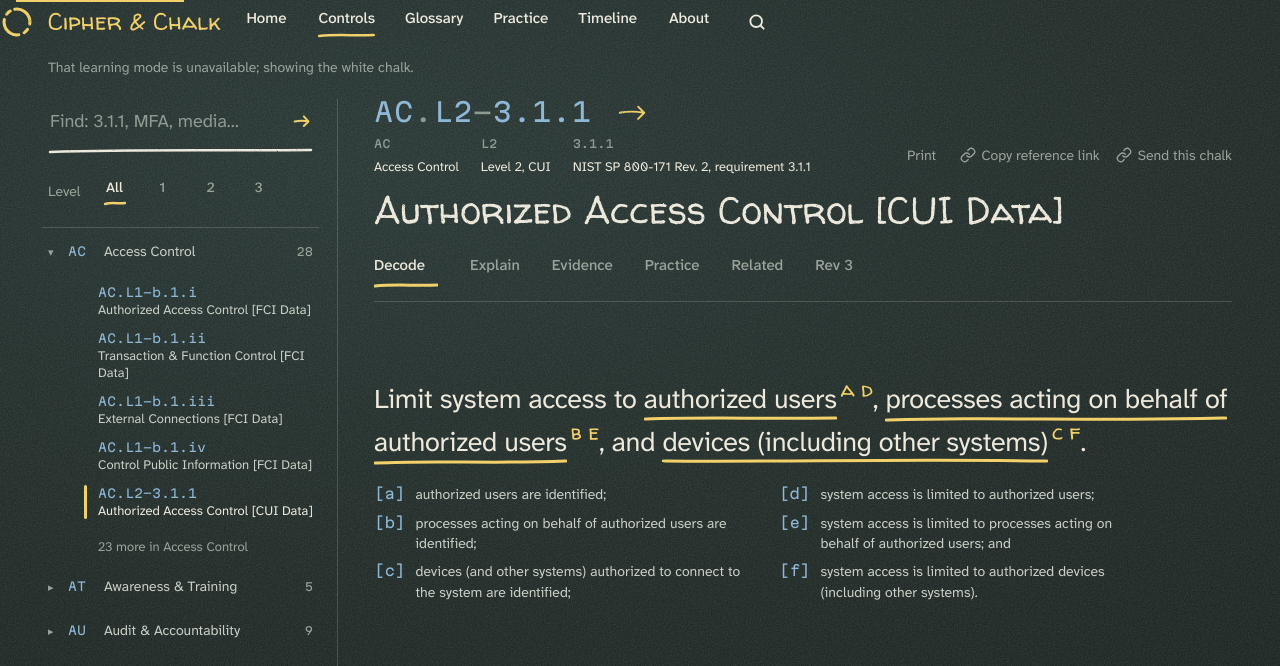
Test case: Versioned CMMC reference catalog › opens an exact source quotation with separate draft perspectives for mode unsupported-mode
Check: the button "Copy reference link" is shown, box [960,134,1100,178]
Click the link "Explain". click: (495, 266)
box: [470,256,520,276]
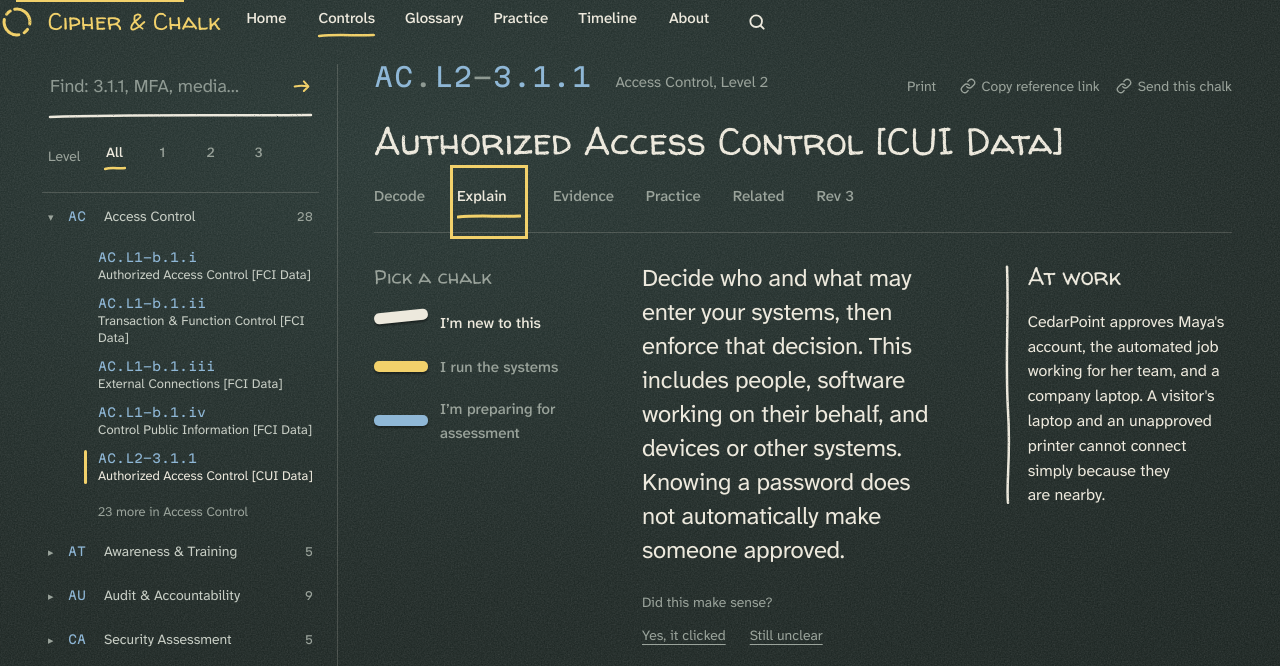
Check: the panel named "I’m new to this" is shown, box [642,261,1232,658]
Check: the text "Pick a chalk" is shown, box [374,263,492,290]
Check: the number of tabs is 3, box [374,301,594,345]; [374,345,594,389]; [374,389,594,453]
